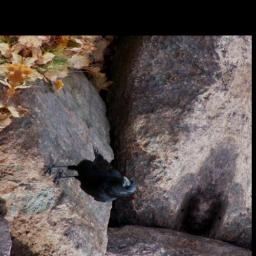Crow: (33, 133, 154, 210)
